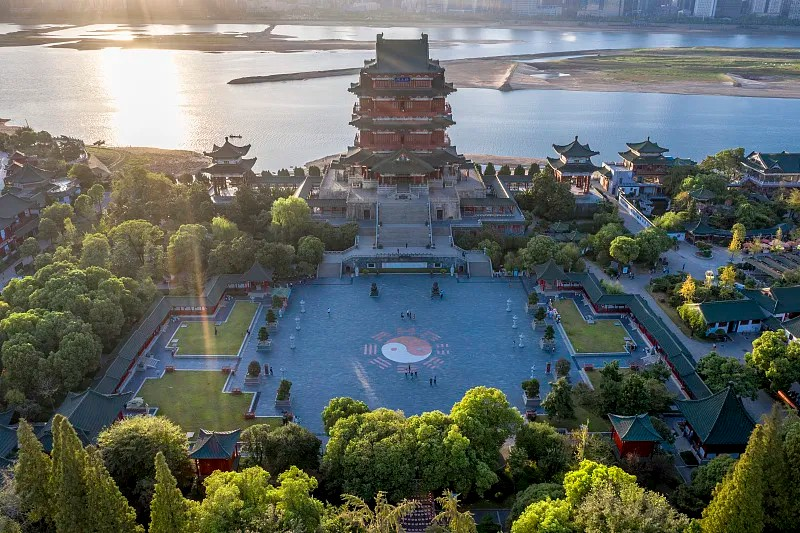Teng: (330, 33, 473, 189)
